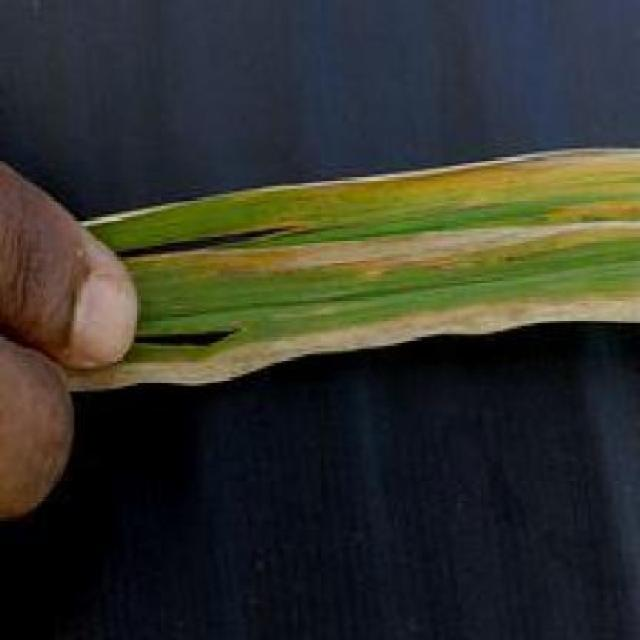Brown_Spot: (89, 166, 636, 365)
